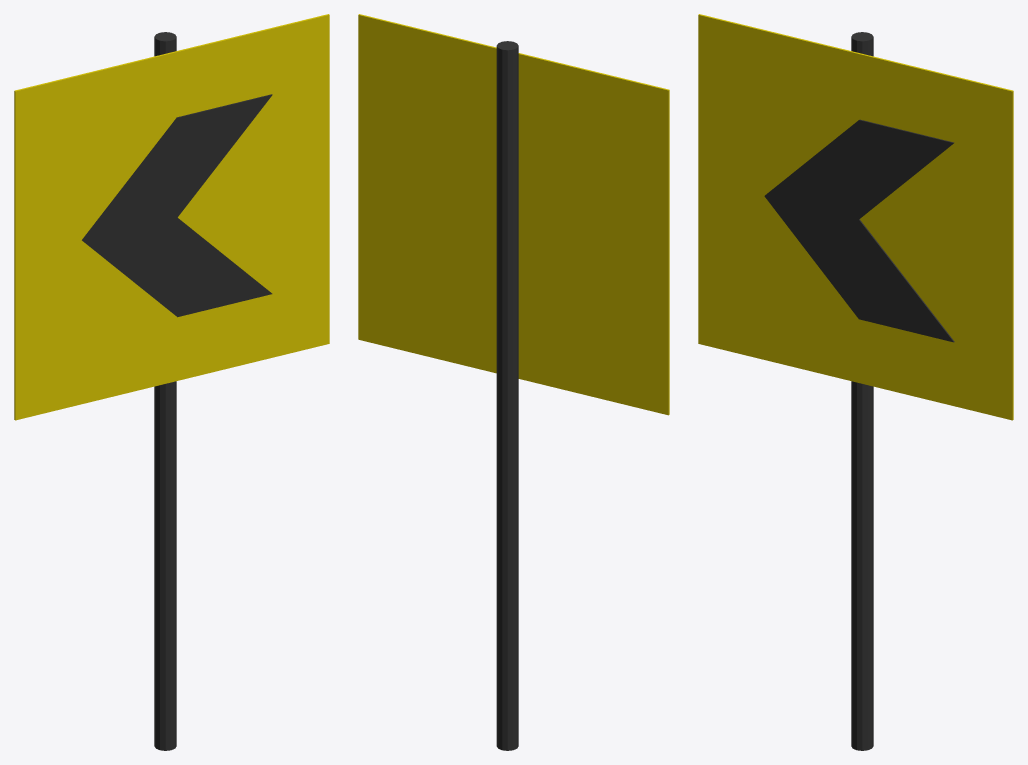
Rendered from turnSign.fbx.
3 renders of one model, left to right at view 1: azimuth 30°, elevation 25°; view 2: azimuth 150°, elevation 25°; view 3: azimuth 330°, elevation 25°, orthographic.
Visible parts, largest first — view 1: Plane, Plane.001, Cylinder; view 2: Plane, Cylinder; view 3: Plane, Plane.001, Cylinder.
Part boxes in pixels (x1,y1,x2,y2): Plane: (14, 14, 329, 420); Plane.001: (82, 94, 272, 317); Cylinder: (154, 32, 176, 750); Plane: (358, 14, 669, 415); Cylinder: (496, 41, 518, 750); Plane: (698, 14, 1013, 420); Plane.001: (764, 119, 954, 342); Cylinder: (851, 32, 873, 750).
Bounding box in the file's own units: 159 × 342 × 11.64.
